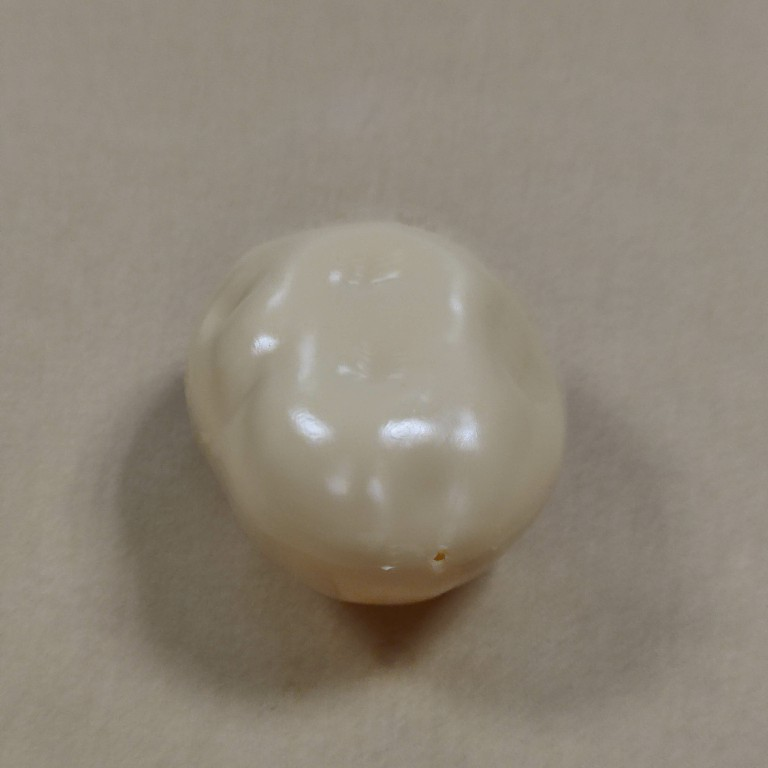fruit_potato: (180, 214, 570, 609)
